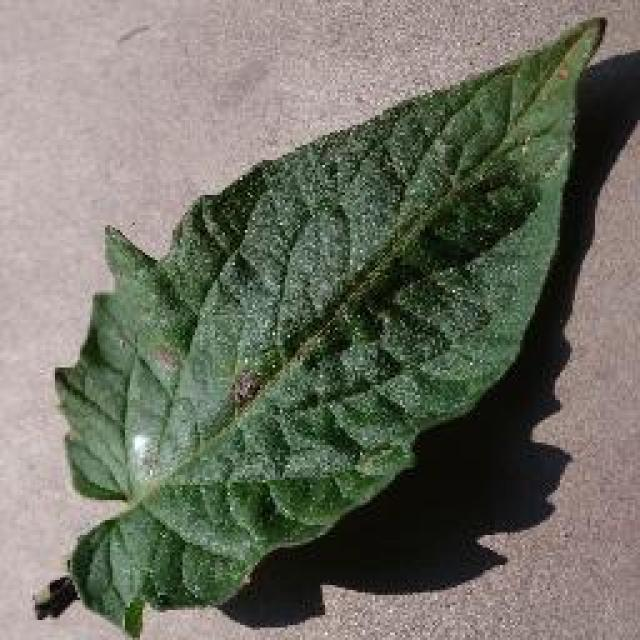Tomato Late Blight: (108, 160, 472, 485)
